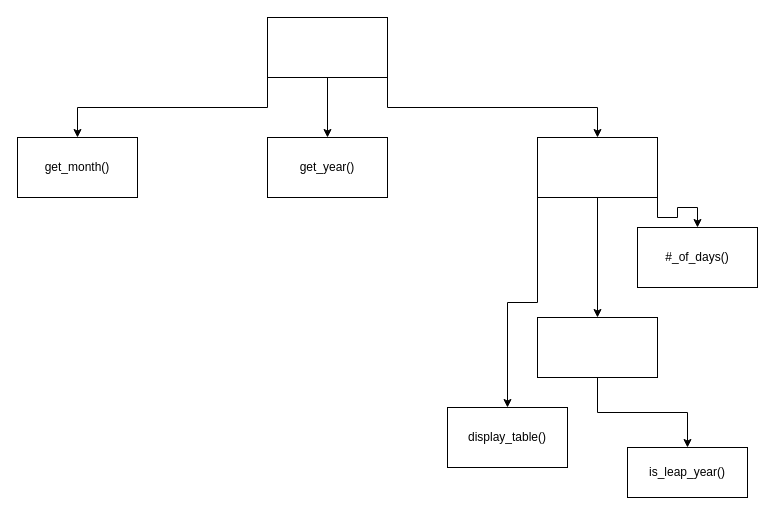
Image size: 775x515. Some labels were removed from this diagram. The box of each missing label's shape, as (x1, y1, x2, y2) in pixels:
compute_offset(): (536, 316, 658, 378)
display_calendar(): (536, 136, 658, 198)
main(): (266, 16, 388, 78)
